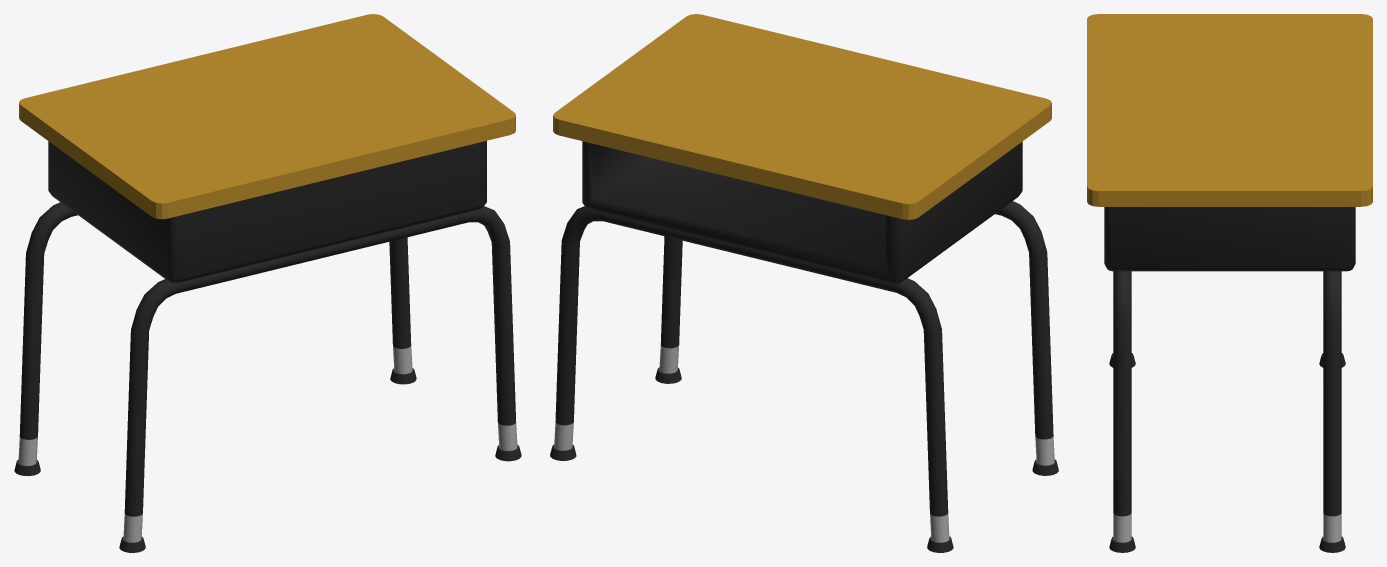
The model's file is desk1.fbx.
The picture shows the model from 3 angles, left to right: view 1: azimuth 30°, elevation 25°; view 2: azimuth 150°, elevation 25°; view 3: azimuth 270°, elevation 25°; orthographic projection.
Visible parts, largest first — view 1: Desk 1; view 2: Desk 1; view 3: Desk 1.
Part boxes in pixels (x1,y1,x2,y2): Desk 1: (14,14,521,552); Desk 1: (550,14,1058,552); Desk 1: (1087,14,1372,552).
Bounding box in the file's own units: 95.72 × 59.4 × 81.01.
